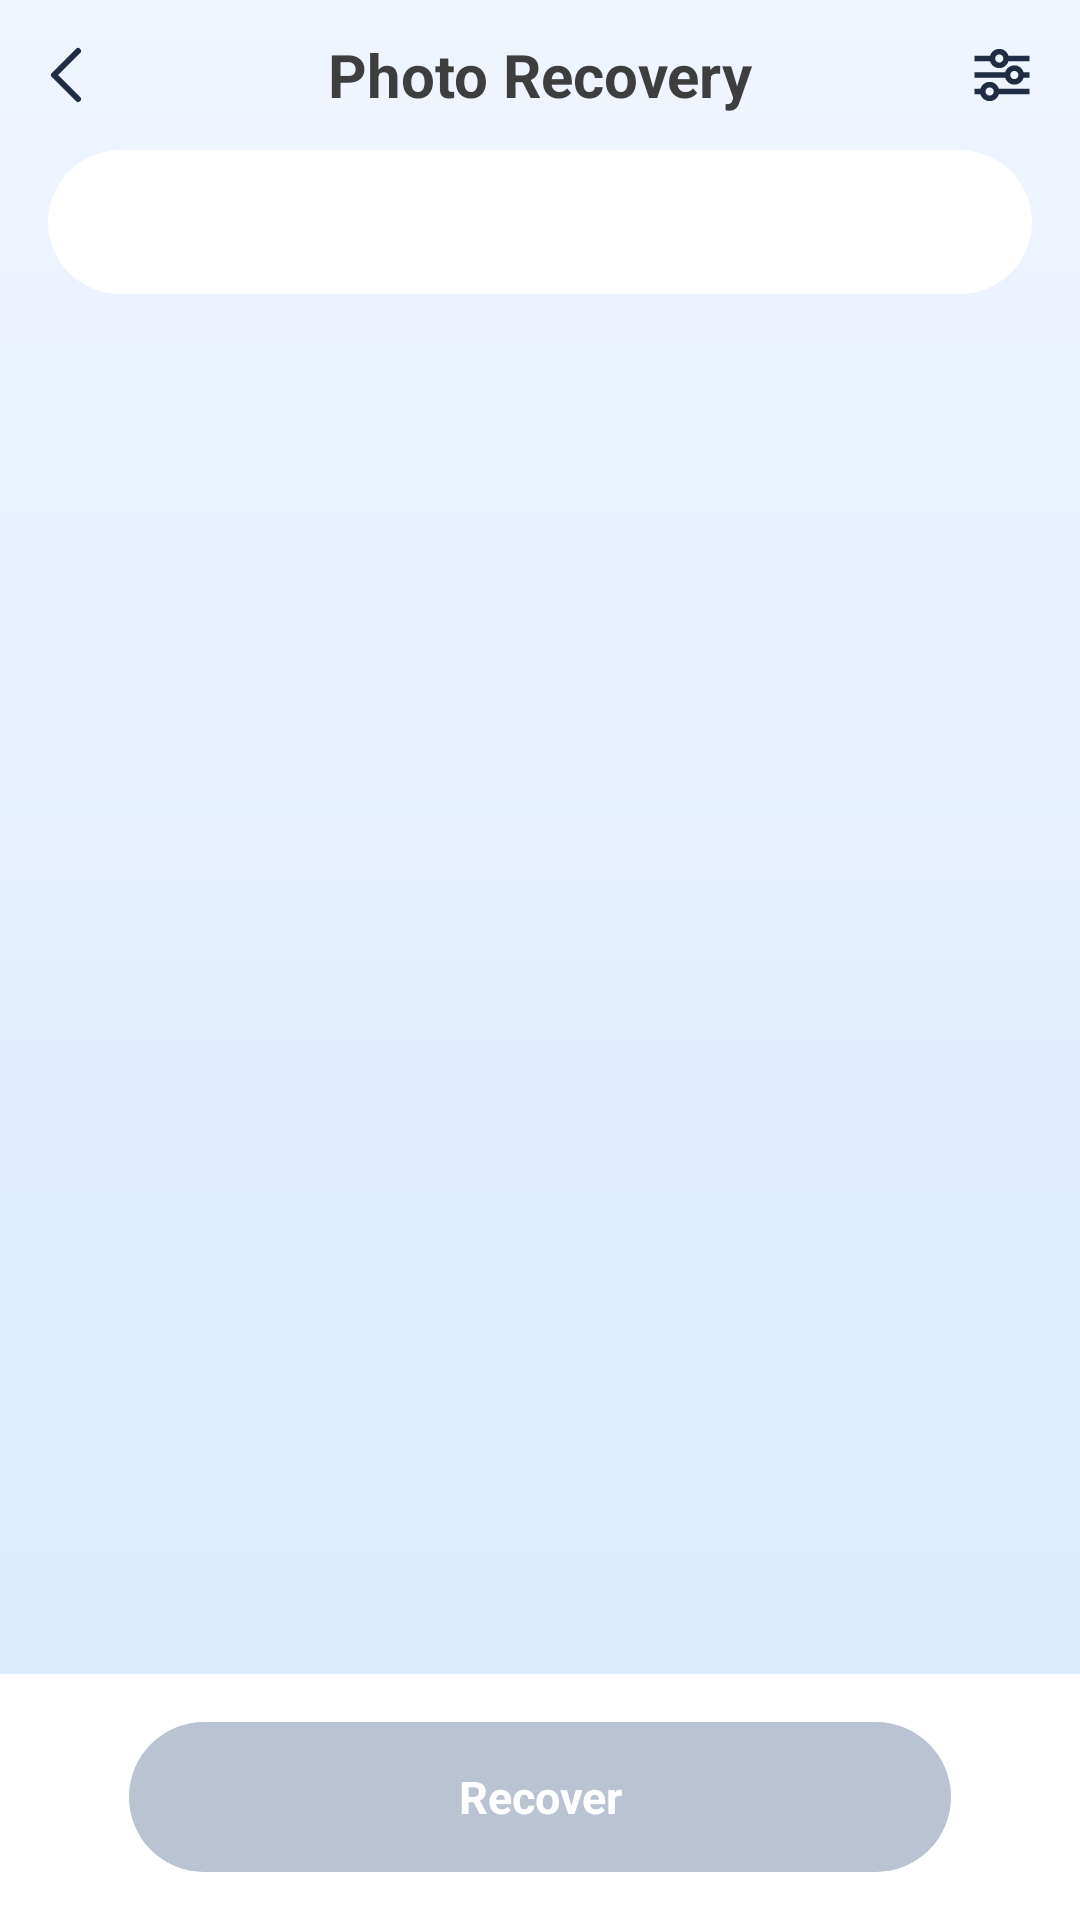

Screen size 1080px x 1920px. Icon name, then its box in pixels as (x1, y1, x2, y2):
back: (51, 47, 81, 102)
filter: (974, 49, 1030, 101)
